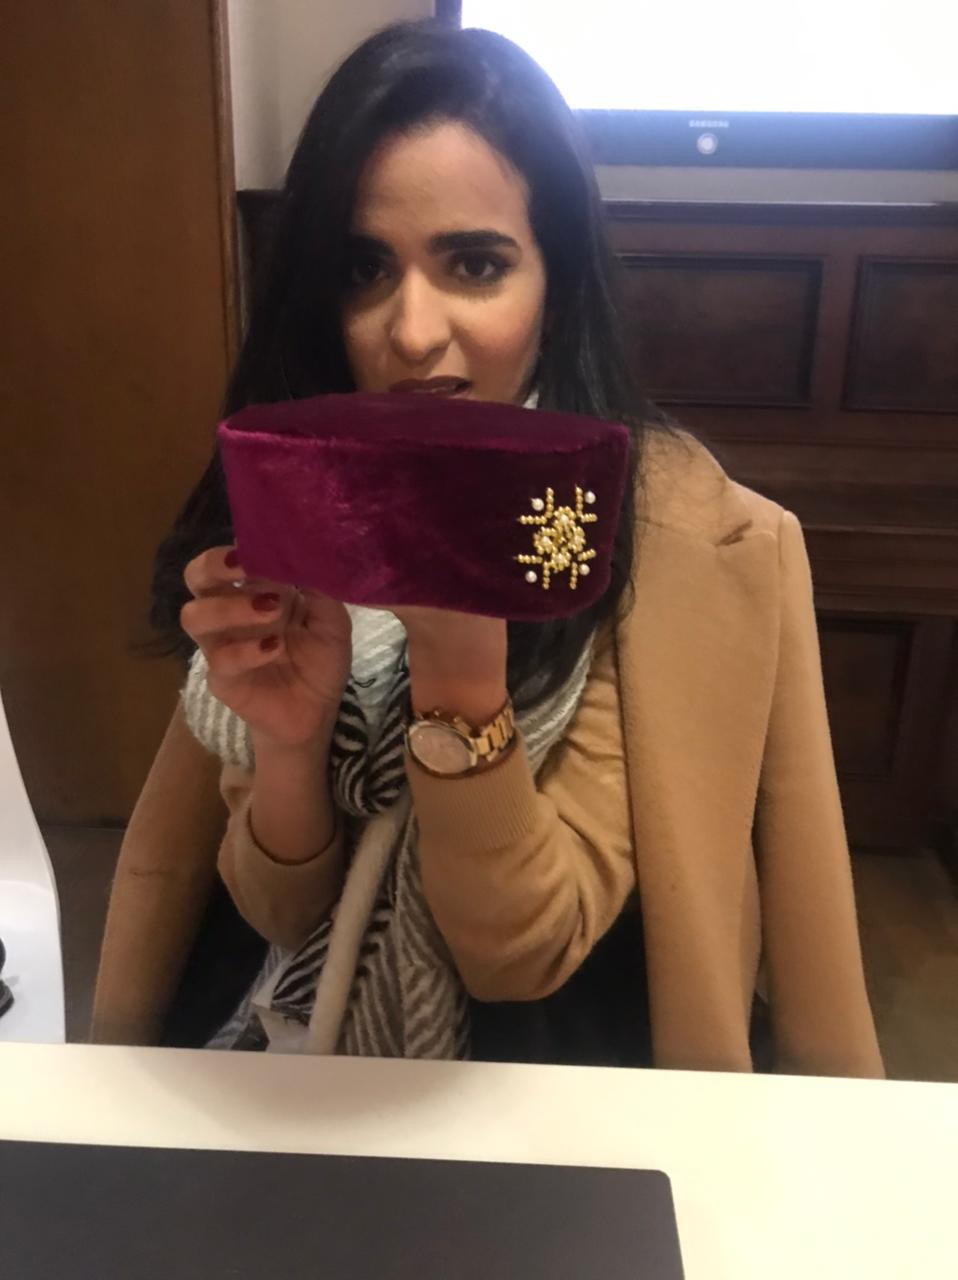chachia: (207, 372, 687, 625)
